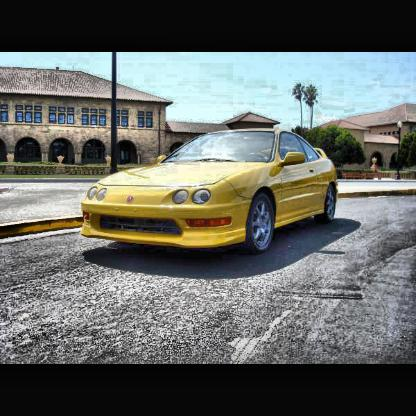Acura Integra Type R 2001: (80, 126, 342, 254)
